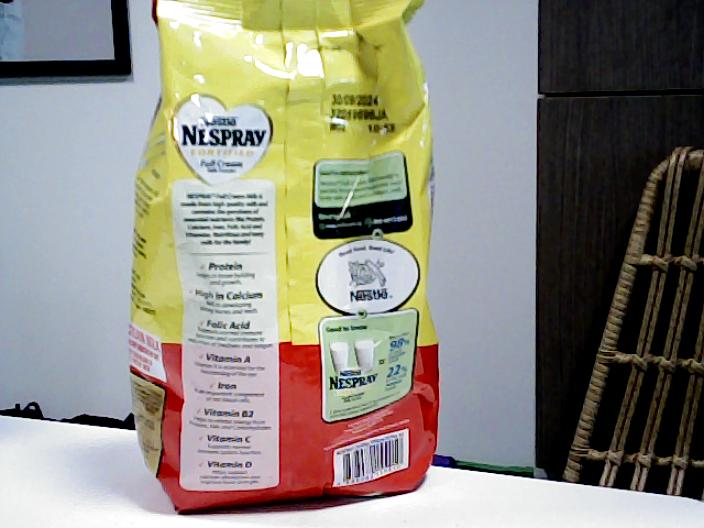Adult_Milk_600-699g_Halal_NonHealthy: (131, 1, 439, 503)
